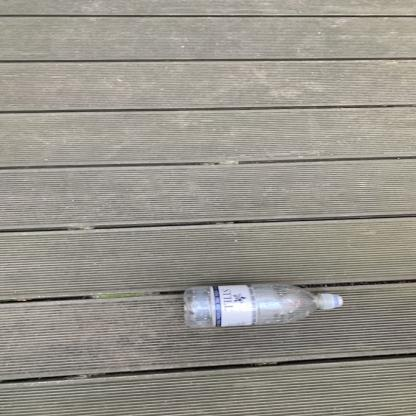trash: (182, 277, 348, 330)
